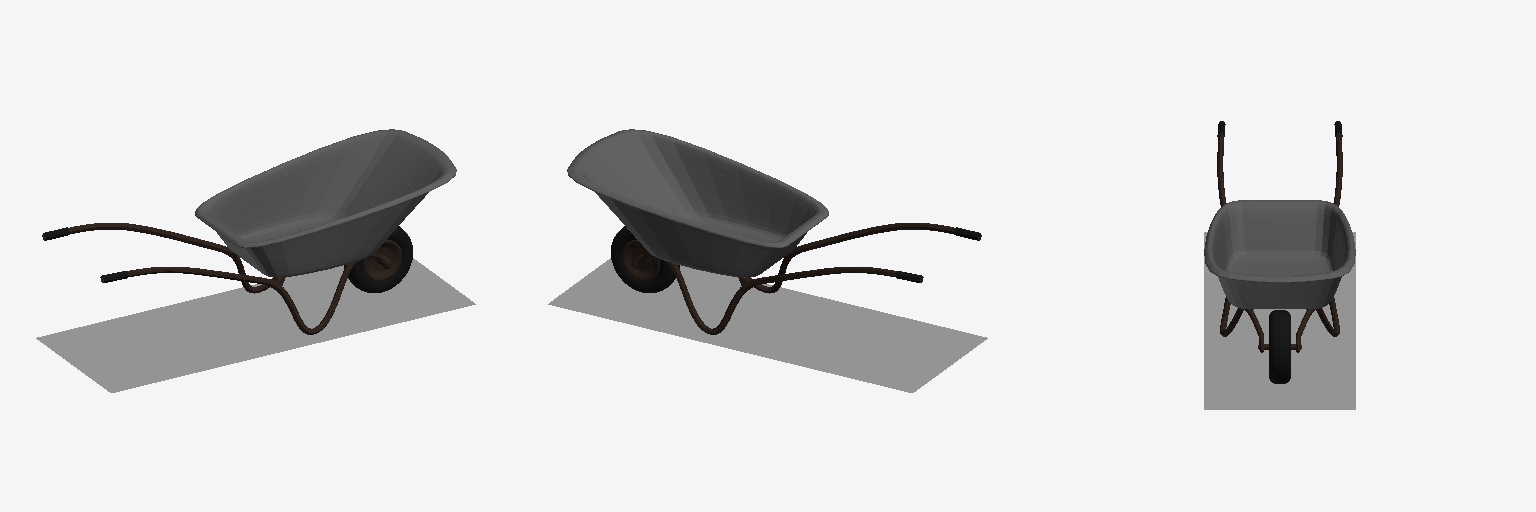
The model's file is Carreola.obj.
The picture shows the model from 3 angles: view 1: azimuth 30°, elevation 25°; view 2: azimuth 150°, elevation 25°; view 3: azimuth 270°, elevation 25°; orthographic projection.
Parts seen in each view (by area): view 1: ground_1, Barrow_Plane_3, Handles_Mesh_36_5, 8, 2; view 2: ground_1, Barrow_Plane_3, Handles_Mesh_36_5, 8, 2; view 3: Barrow_Plane_3, ground_1, Handles_Mesh_36_5, 8.
Boxes of the visible parts, box(x1,y1,x2,y2) form: ground_1: box(36, 258, 475, 392); Barrow_Plane_3: box(195, 129, 456, 277); Handles_Mesh_36_5: box(68, 223, 392, 334); 8: box(344, 226, 412, 292); 2: box(364, 240, 401, 280); ground_1: box(548, 258, 987, 392); Barrow_Plane_3: box(567, 129, 828, 277); Handles_Mesh_36_5: box(631, 223, 955, 334); 8: box(611, 226, 679, 292); 2: box(622, 240, 659, 280); Barrow_Plane_3: box(1204, 200, 1355, 308); ground_1: box(1204, 232, 1355, 409); Handles_Mesh_36_5: box(1217, 133, 1342, 352); 8: box(1269, 310, 1290, 383).
Bounding box in the file's own units: 166 × 56.7 × 59.8.